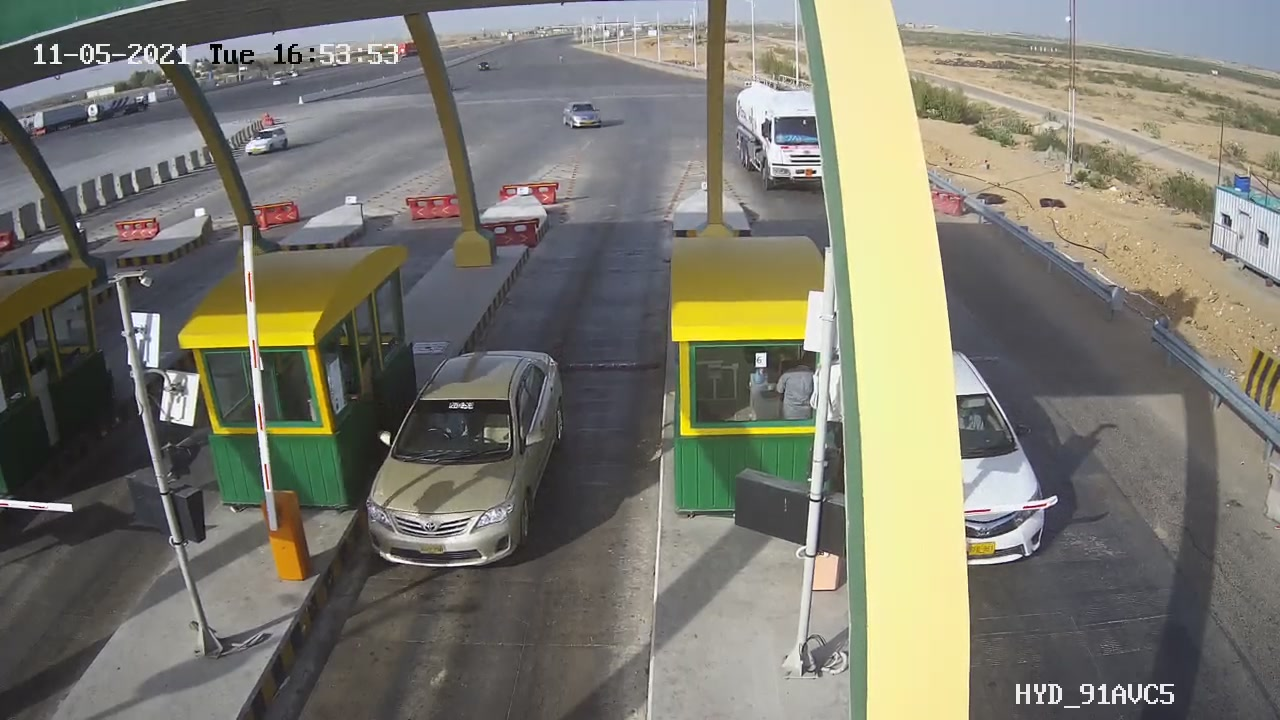F1: (348, 334, 583, 589)
